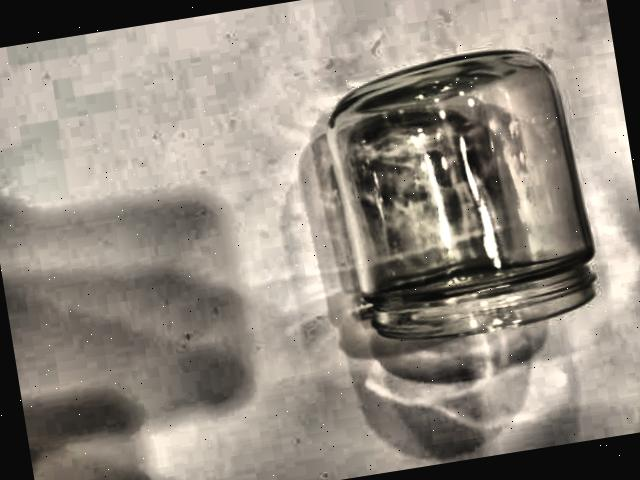Almennt: (295, 32, 615, 392)
